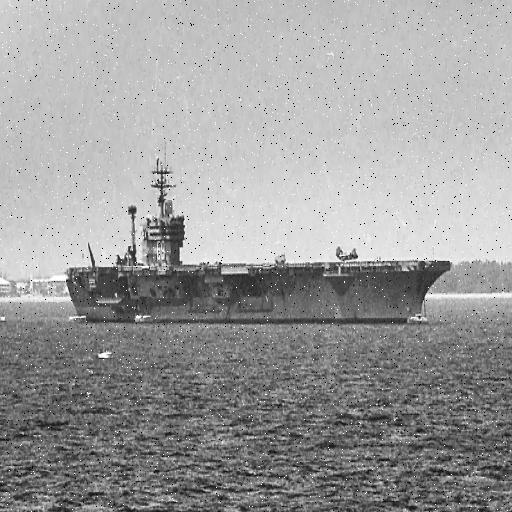Portanaves: (63, 147, 456, 327)
